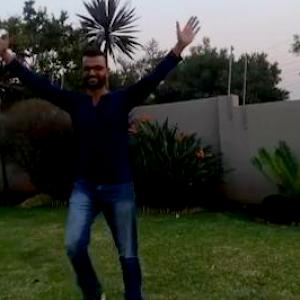takeoff: (2, 21, 202, 299)
